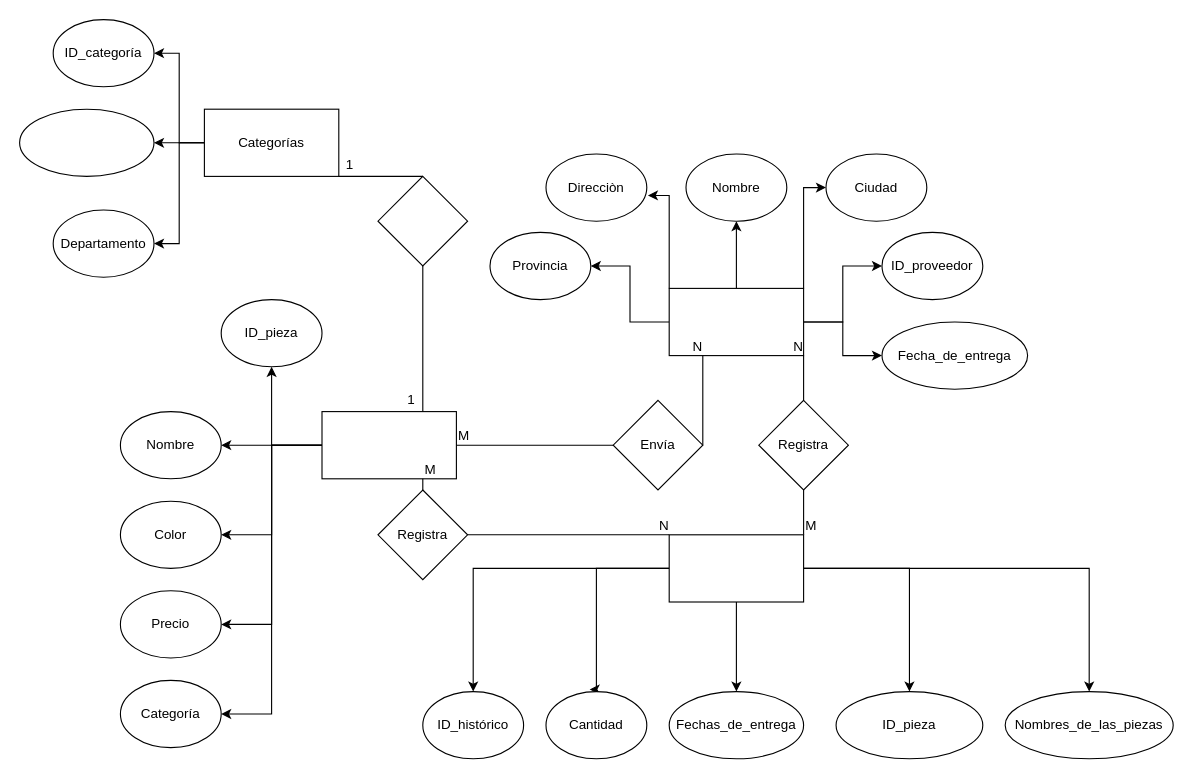
Image size: 1193x778. Some labels were removed from this diagram. Here are the shapes that lost their labels. From the top down, the centre of each, then its label:
At (x=86, y=142): "Nombre_categoría".
At (x=422, y=220): "Pertenecen".
At (x=736, y=321): "Proveedores".
At (x=388, y=444): "Piezas".
At (x=736, y=568): "Histórico".
